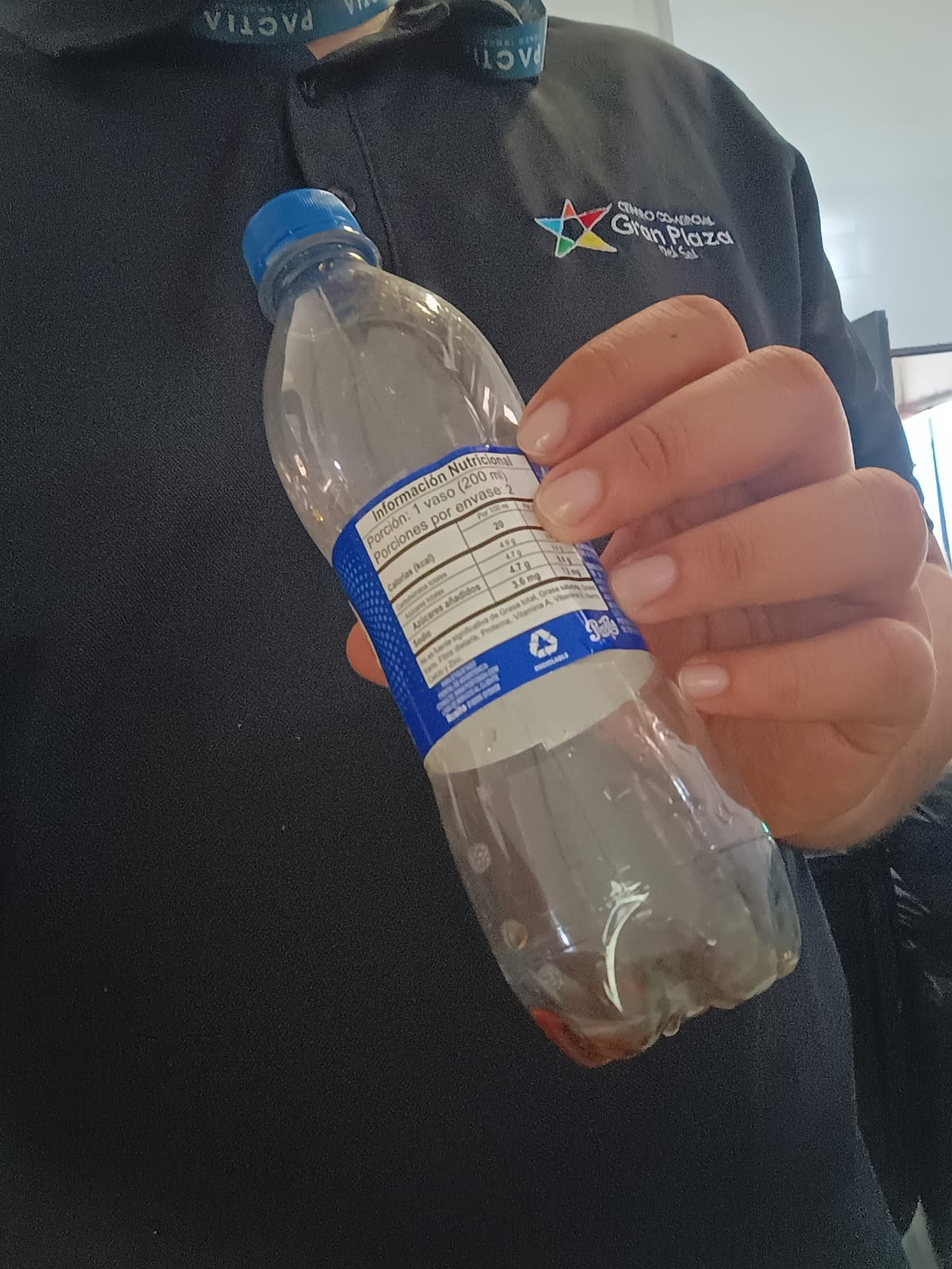Plastico: (244, 186, 804, 1069)
